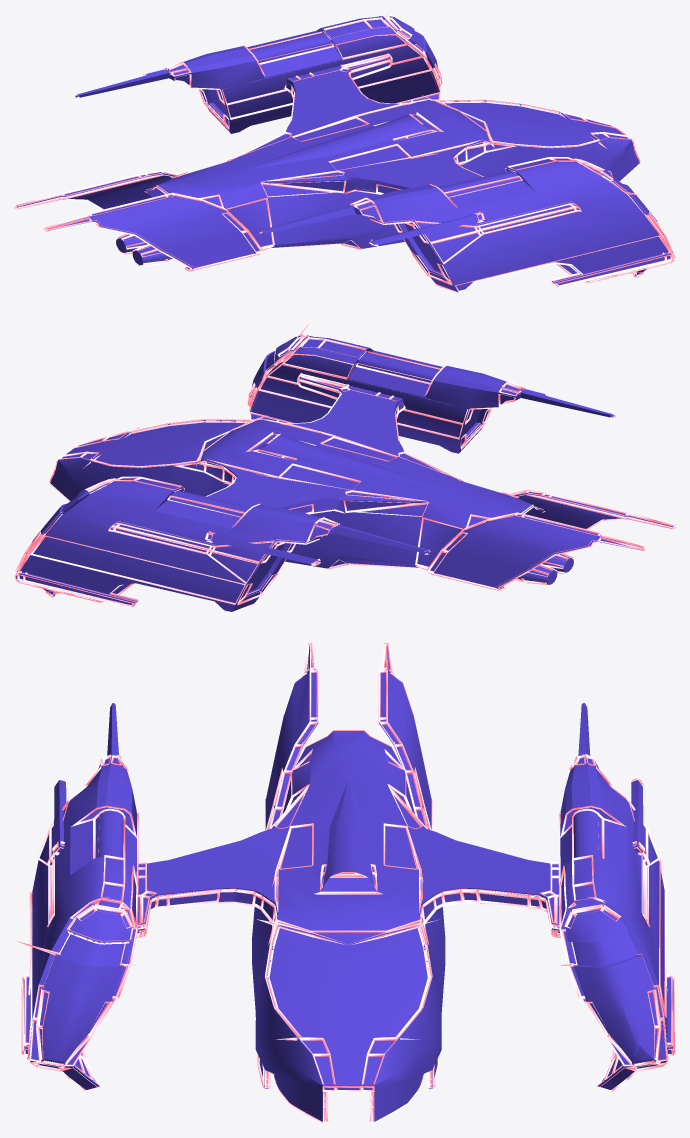
Rendered from spaceship.gltf.
The picture shows the model from 3 angles, top to bottom: view 1: azimuth 30°, elevation 25°; view 2: azimuth 150°, elevation 25°; view 3: azimuth 270°, elevation 25°; orthographic projection. The views are drawn at different scales.
Visible parts, largest first — view 1: base, wireframe; view 2: base, wireframe; view 3: base, wireframe.
Boxes of the visible parts, x1,y1,x2,y2 form: base: (17,16,672,292); wireframe: (14,14,675,293); base: (15,336,672,611); wireframe: (14,323,675,613); base: (23,645,673,1121); wireframe: (16,642,675,1123).
Bounding box in the file's own units: 9.46 × 2.02 × 7.1.
